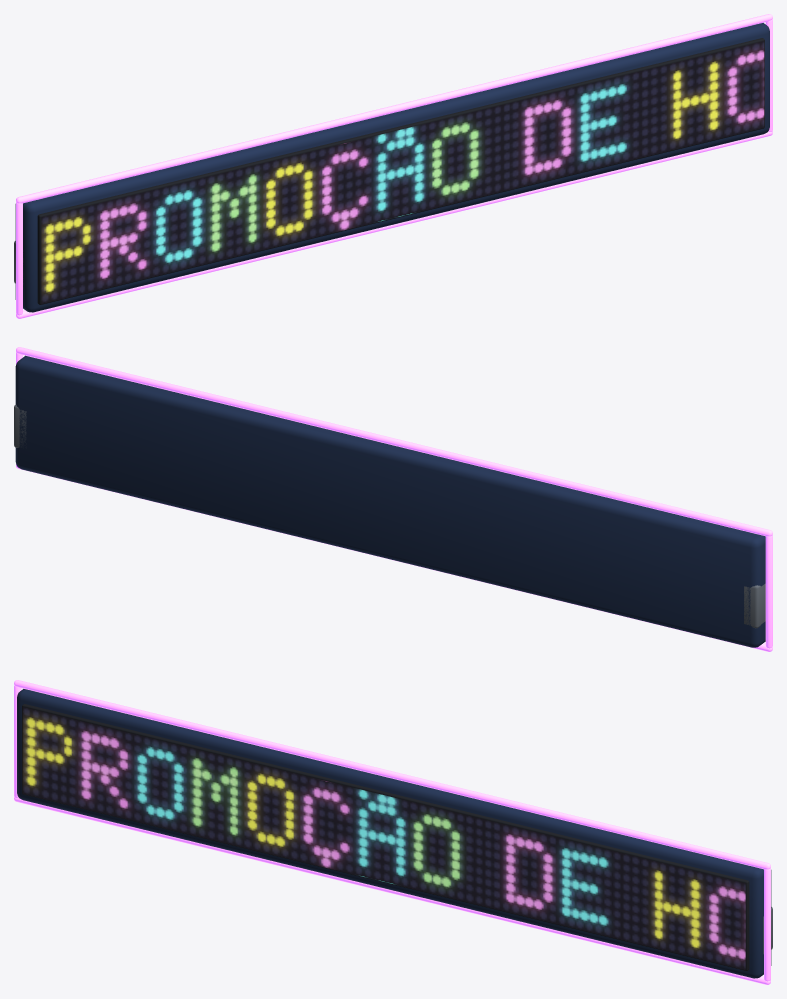
File: led_promocao_rolante.glb
3 views of the same model, one above another, from view 1: azimuth 30°, elevation 25°; view 2: azimuth 150°, elevation 25°; view 3: azimuth 330°, elevation 25° (orthographic).
Parts seen in each view (by area): view 1: led_rolante, led_promocao_rolante; view 2: led_promocao_rolante; view 3: led_rolante, led_promocao_rolante.
Part boxes in pixels (x1,y1,x2,y2): led_rolante: (41, 41, 764, 303); led_promocao_rolante: (14, 14, 772, 318); led_promocao_rolante: (14, 347, 772, 651); led_rolante: (22, 707, 745, 969); led_promocao_rolante: (14, 680, 772, 984).
Bounding box in the file's own units: 5.64 × 0.865 × 0.228.
3 materials, 2 textured.
